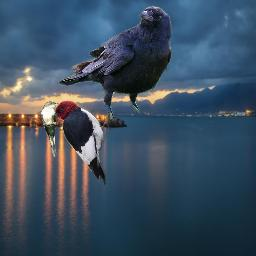Crow: (58, 6, 172, 121)
Cuckoo: (41, 101, 59, 158)
Woodpecker: (42, 99, 111, 185)
